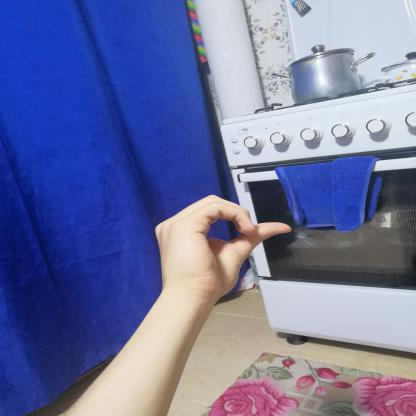WAW: (147, 186, 302, 310)
